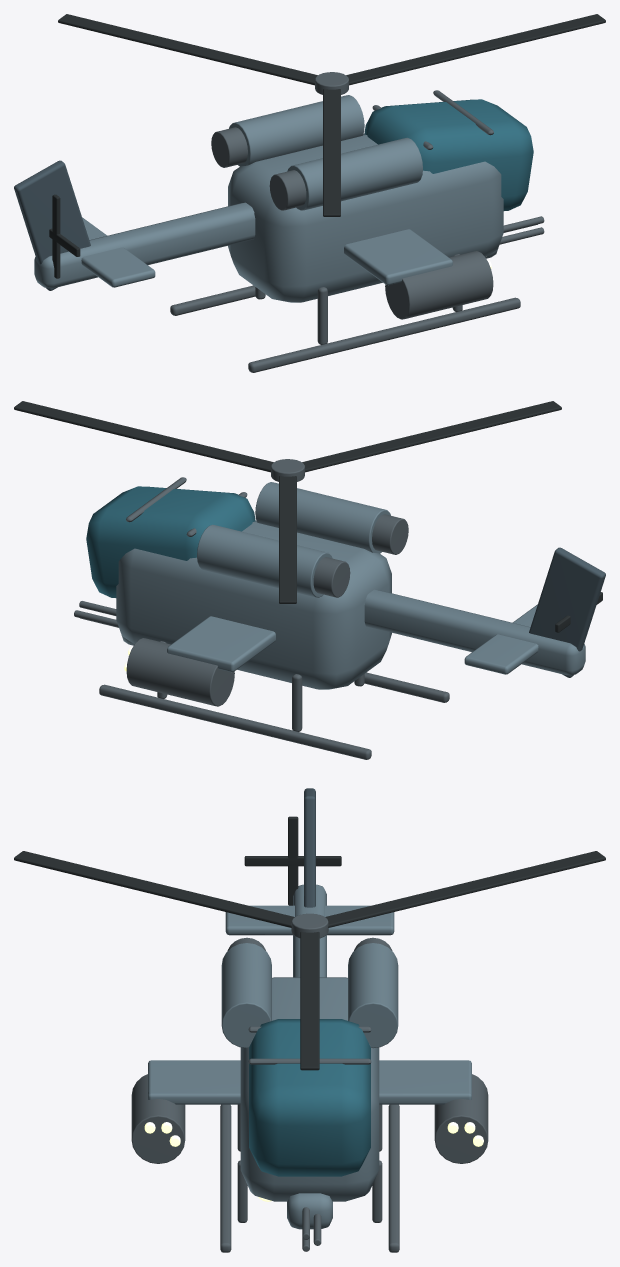
The model's file is heli.glb.
3 renders of one model, top to bottom at view 1: azimuth 30°, elevation 25°; view 2: azimuth 150°, elevation 25°; view 3: azimuth 270°, elevation 25°, orthographic. The views are drawn at different scales.
Visible parts, largest first — view 1: Armoured fuselage, Tandem canopy, Tail boom, Engine, Engine.001, Rocket pod, Vertical tail, Weapon wing, Landing skid, Rotor blade, Rotor blade.001, Rotor blade.002 (+7 smaller); view 2: Armoured fuselage, Tandem canopy, Tail boom, Engine.001, Vertical tail, Engine, Rocket pod.001, Weapon wing.001, Landing skid.001, Rotor blade, Rotor blade.002, Rotor blade.001 (+6 smaller); view 3: Tandem canopy, Armoured fuselage, Engine, Engine.001, Weapon wing, Weapon wing.001, Rotor blade.001, Rotor blade.002, Rocket pod, Rocket pod.001, Tail stabilizer, Rotor blade (+9 smaller).
Boxes of the visible parts, box(x1,y1,x2,y2) form: Armoured fuselage: box(228, 133, 503, 302); Tandem canopy: box(364, 99, 533, 210); Tail boom: box(34, 202, 255, 288); Engine: box(287, 137, 422, 210); Engine.001: box(229, 95, 364, 166); Rocket pod: box(385, 251, 493, 319); Vertical tail: box(14, 160, 90, 290); Weapon wing: box(344, 229, 452, 285); Landing skid: box(248, 297, 520, 372); Rotor blade: box(346, 14, 605, 85); Rotor blade.001: box(58, 14, 317, 85); Rotor blade.002: box(323, 89, 340, 216); Armoured fuselage: box(116, 520, 391, 689); Tandem canopy: box(86, 486, 255, 597); Tail boom: box(364, 589, 585, 675); Engine.001: box(197, 524, 332, 597); Vertical tail: box(529, 547, 605, 677); Engine: box(255, 482, 390, 553); Rocket pod.001: box(126, 638, 234, 706); Weapon wing.001: box(167, 616, 275, 672); Landing skid.001: box(99, 684, 371, 759); Rotor blade: box(14, 401, 273, 472); Rotor blade.002: box(302, 401, 561, 472); Rotor blade.001: box(279, 476, 296, 603); Tandem canopy: box(249, 1019, 370, 1176); Armoured fuselage: box(240, 977, 379, 1201); Engine: box(221, 943, 271, 1048); Engine.001: box(348, 943, 398, 1048); Weapon wing: box(148, 1060, 240, 1104); Weapon wing.001: box(379, 1060, 471, 1104); Rotor blade.001: box(325, 851, 605, 927); Rotor blade.002: box(14, 851, 294, 927); Rocket pod: box(131, 1074, 185, 1163); Rocket pod.001: box(434, 1074, 488, 1163); Tail stabilizer: box(225, 905, 394, 935); Rotor blade: box(300, 932, 319, 1070).
Bounding box in the file's own units: 8.69 × 3.34 × 7.03.
